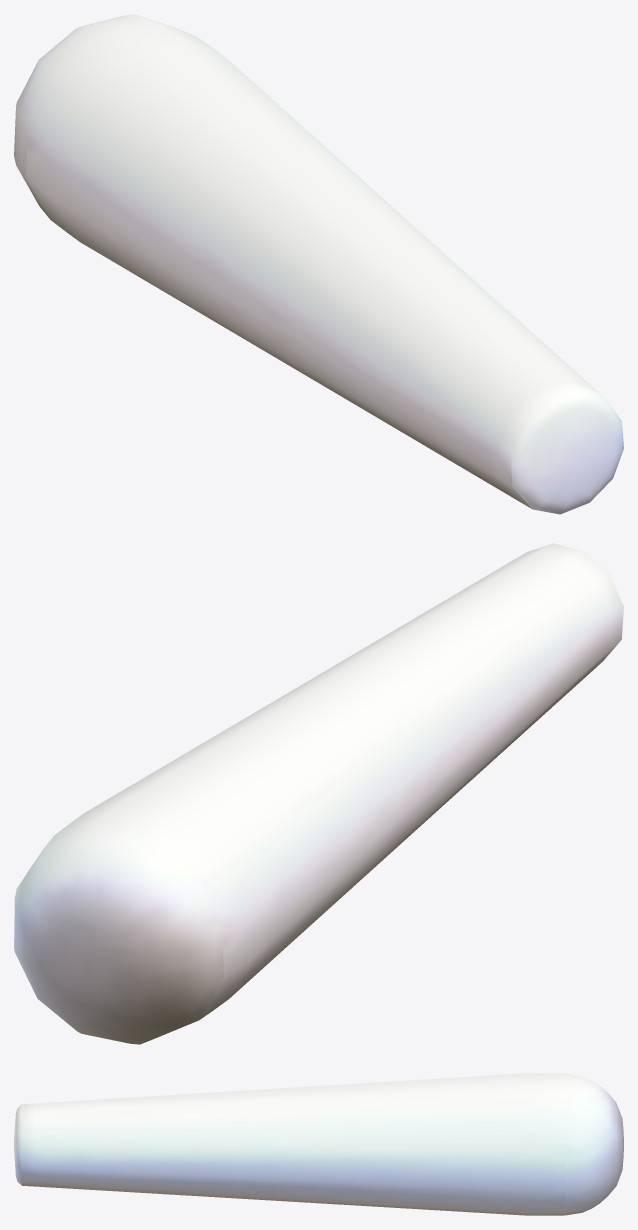
File: mortar_stick.glb
3 views of the same model, one above another, from view 1: azimuth 30°, elevation 25°; view 2: azimuth 150°, elevation 25°; view 3: azimuth 270°, elevation 25° (orthographic). The views are drawn at different scales.
Visible parts, largest first — view 1: mortar_stick; view 2: mortar_stick; view 3: mortar_stick.
Part boxes in pixels (<box>): mortar_stick: <box>14,14,623,514</box>; mortar_stick: <box>14,543,623,1044</box>; mortar_stick: <box>14,1073,623,1215</box>.
Bounding box in the file's own units: 0.0122 × 0.0122 × 0.0527.
Materials: 1 (1 with a texture image).
